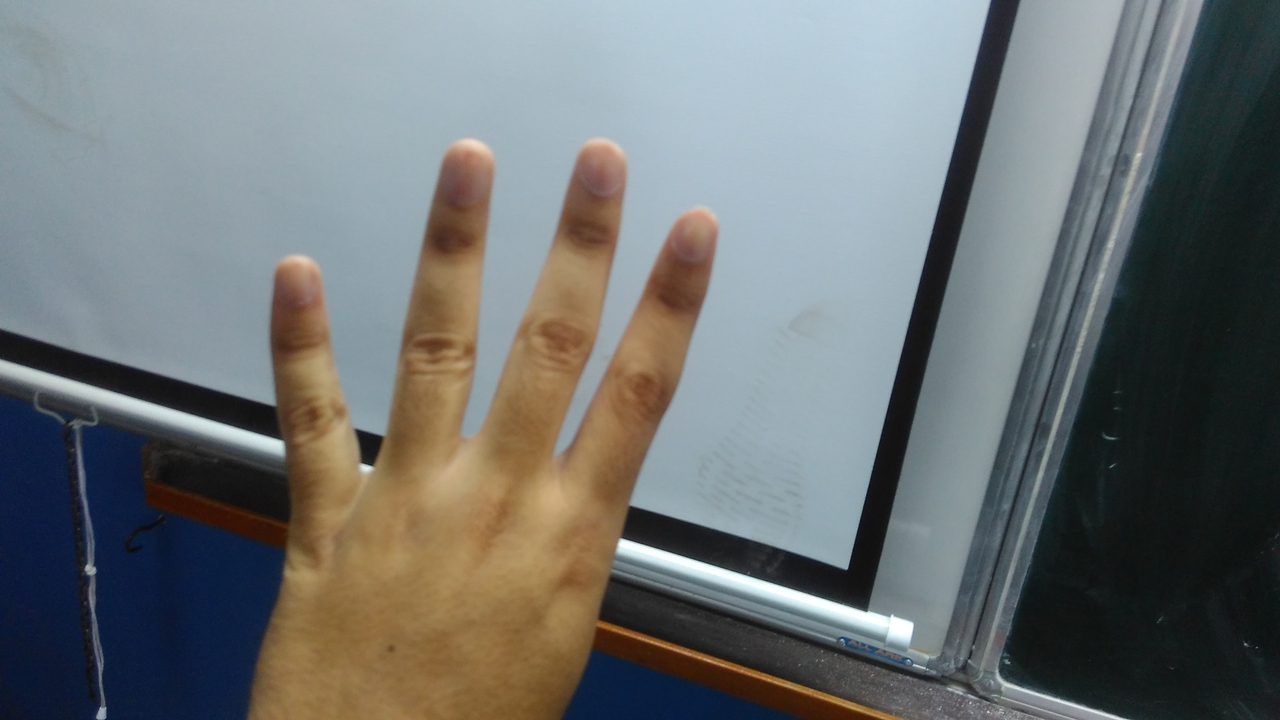fingertip: (660, 198, 726, 268), (562, 136, 632, 198), (260, 248, 326, 312), (430, 134, 498, 194)
